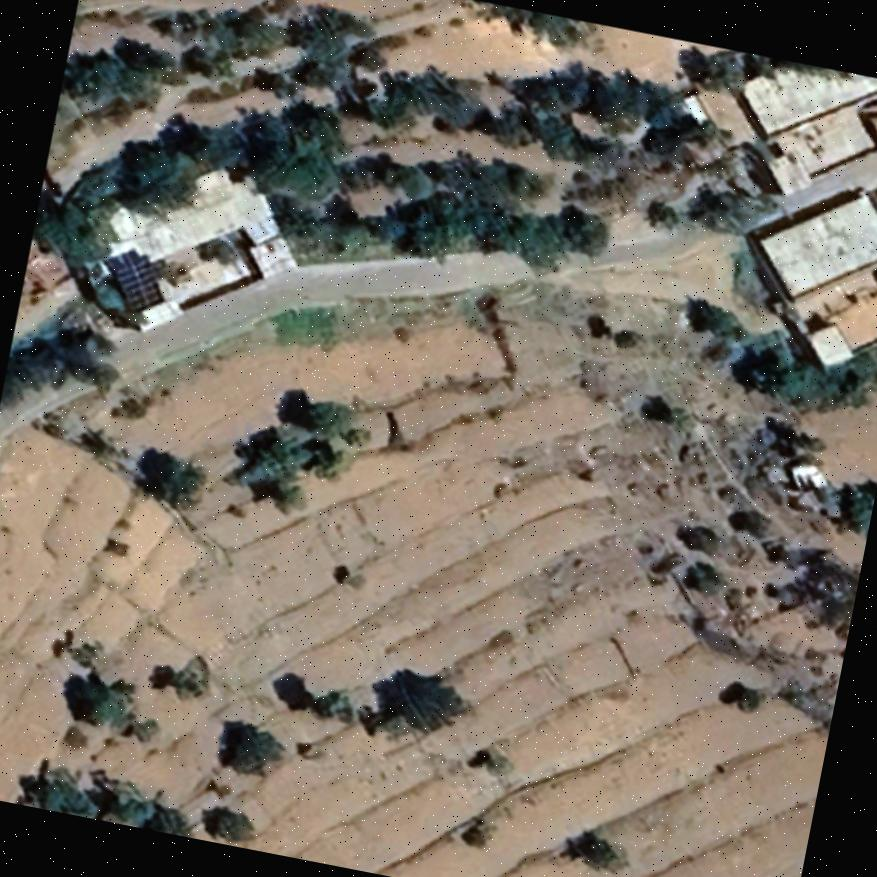Solarpanel: (105, 250, 164, 315)
